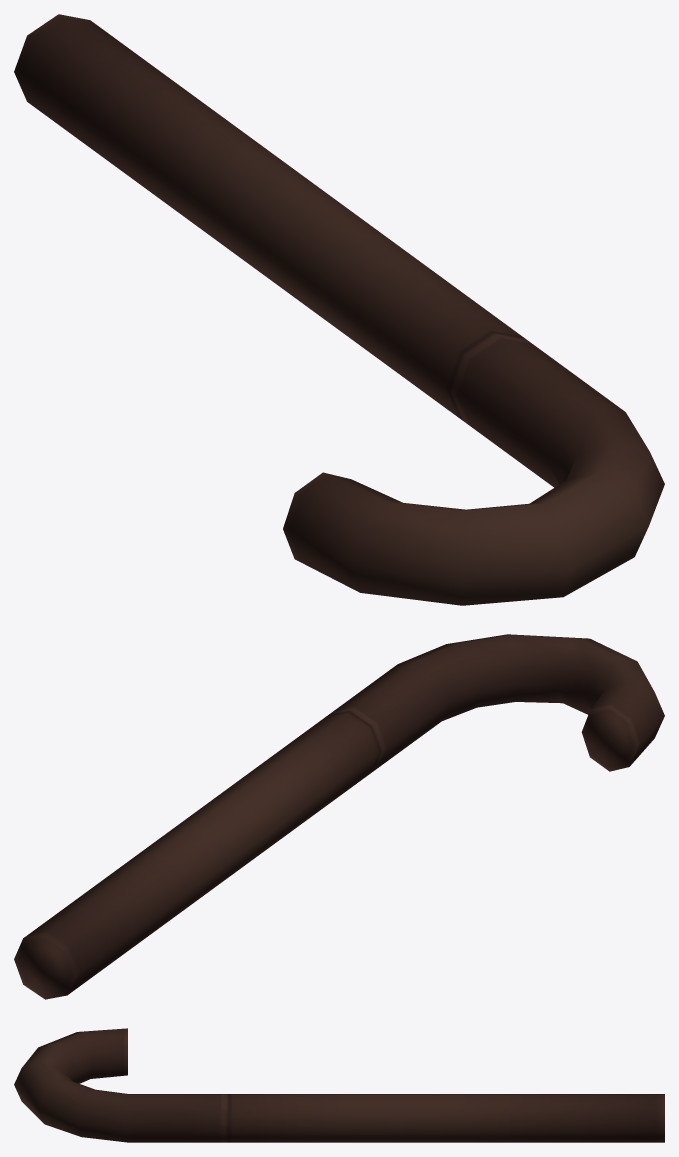
Rendered from Walking stickA.fbx.
3 views of the same model, one above another, from view 1: azimuth 30°, elevation 25°; view 2: azimuth 150°, elevation 25°; view 3: azimuth 270°, elevation 25° (orthographic). The views are drawn at different scales.
Visible parts, largest first — view 1: Walking_stickA; view 2: Walking_stickA; view 3: Walking_stickA.
Part boxes in pixels (left/top/right/bottom): Walking_stickA: left=14, top=14, right=664, bottom=605; Walking_stickA: left=14, top=634, right=664, bottom=999; Walking_stickA: left=14, top=1028, right=664, bottom=1142.
Bounding box in the file's own units: 7.96 × 2 × 25.15.
